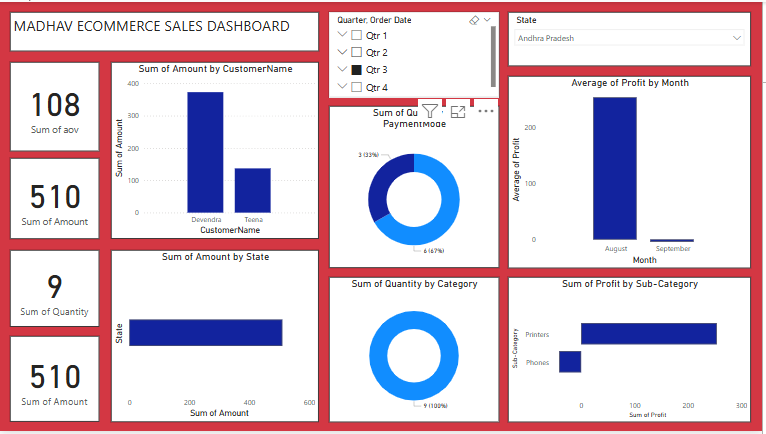

The dashboard page shown, as its layout file describes it:
{"tool":"powerbi","page":{"name":"Page 1","canvas":[1280,720],"ordinal":0},"visuals":[{"type":"textbox","box":[16.8,16.8,519.1,65.5],"z":0},{"type":"columnChart","fields":{"Category":["Orders[1].Order Date.Variation.Date Hierarchy.Month"],"Y":["Details[1].Profit"]},"box":[853.3,124.3,408.2,322.5],"z":1000},{"type":"barChart","fields":{"Category":["Details[1].Sub-Category"],"Y":["Details[1].Profit"]},"box":[853.3,461.9,408.2,243.6],"z":2000},{"type":"donutChart","fields":{"Category":["Details[1].Category"],"Y":["Details[1].Quantity"]},"box":[552.7,461.9,285.6,243.6],"z":3000},{"type":"donutChart","fields":{"Category":["Details[1].PaymentMode"],"Y":["Details[1].Quantity"]},"box":[552.7,174.7,285.6,272.1],"z":4000},{"type":"card","fields":{"Values":["Details[1].Amount"]},"box":[16.8,262,149.5,136.1],"z":5000},{"type":"card","fields":{"Values":["Details[1].Quantity"]},"box":[16.8,416.6,149.5,129.3],"z":6000},{"type":"card","fields":{"Values":["Details[1].Amount"]},"box":[16.8,561,149.5,144.5],"z":7000},{"type":"card","fields":{"Values":["Details[1].aov"]},"box":[16.8,100.8,149.5,149.5],"z":8000},{"type":"barChart","fields":{"Y":["Details[1].Amount"],"Category":["Orders[1].State"]},"box":[186.5,416.6,349.4,288.9],"z":9000},{"type":"columnChart","fields":{"Category":["Orders[1].CustomerName"],"Y":["Details[1].Amount"]},"box":[186.5,100.8,349.4,297.3],"z":10000},{"type":"slicer","fields":{"Values":["Orders[1].Order Date.Variation.Date Hierarchy.Quarter","Orders[1].Order Date"]},"box":[552.7,16.8,285.6,144.5],"z":11000},{"type":"slicer","fields":{"Values":["Orders[1].State"]},"box":[853.3,16.8,408.2,90.7],"z":12000}]}

Visuals, with their boxes in screenshot pixels (x1, y1, x2, y2), scaled from the page's 1280x720 canvas onto the 766x434 screenshot:
textbox: {"left": 10, "top": 10, "right": 321, "bottom": 50}
columnChart - Orders[1].Order Date.Variation.Date Hierarchy.Month x Details[1].Profit: {"left": 511, "top": 75, "right": 755, "bottom": 269}
barChart - Details[1].Sub-Category x Details[1].Profit: {"left": 511, "top": 278, "right": 755, "bottom": 425}
donutChart - Details[1].Category x Details[1].Quantity: {"left": 331, "top": 278, "right": 502, "bottom": 425}
donutChart - Details[1].PaymentMode x Details[1].Quantity: {"left": 331, "top": 105, "right": 502, "bottom": 269}
card - Details[1].Amount: {"left": 10, "top": 158, "right": 100, "bottom": 240}
card - Details[1].Quantity: {"left": 10, "top": 251, "right": 100, "bottom": 329}
card - Details[1].Amount: {"left": 10, "top": 338, "right": 100, "bottom": 425}
card - Details[1].aov: {"left": 10, "top": 61, "right": 100, "bottom": 151}
barChart - Details[1].Amount x Orders[1].State: {"left": 112, "top": 251, "right": 321, "bottom": 425}
columnChart - Orders[1].CustomerName x Details[1].Amount: {"left": 112, "top": 61, "right": 321, "bottom": 240}
slicer - Orders[1].Order Date.Variation.Date Hierarchy.Quarter x Orders[1].Order Date: {"left": 331, "top": 10, "right": 502, "bottom": 97}
slicer - Orders[1].State: {"left": 511, "top": 10, "right": 755, "bottom": 65}
